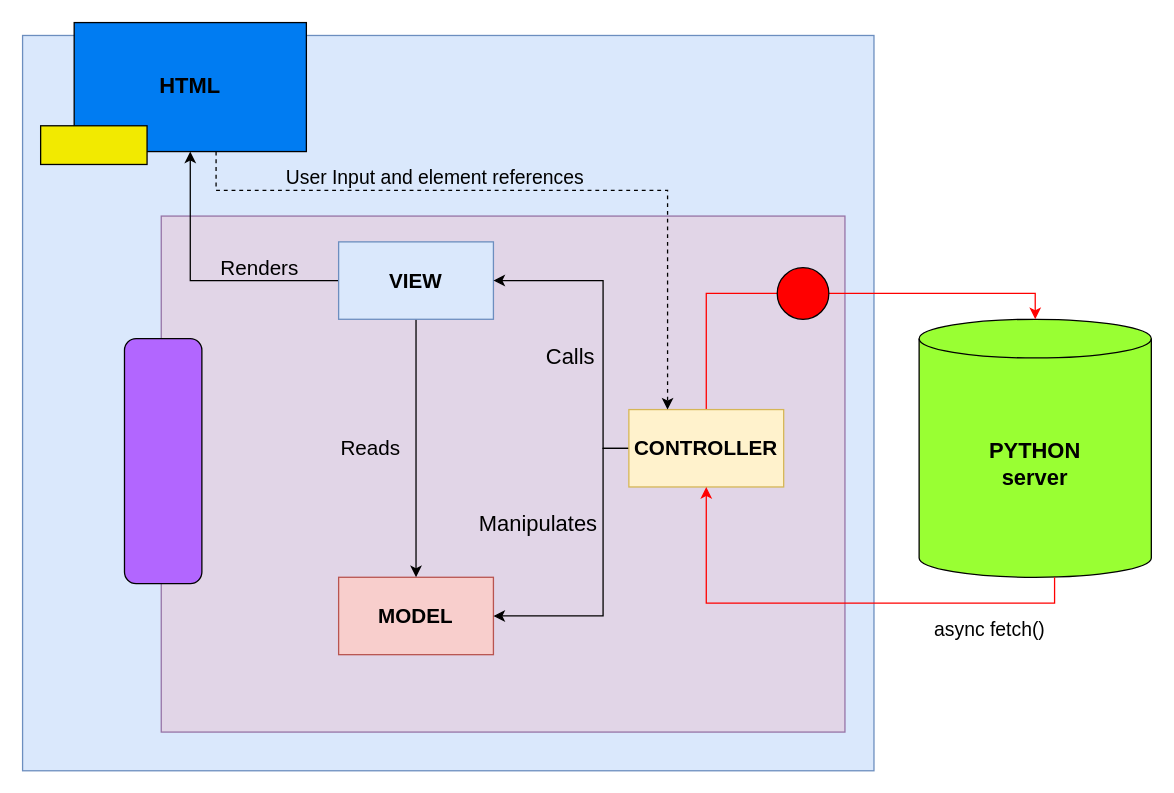
Image size: 1174x793. Some labels were removed from this diagram. Here are the shapes that lost their labels. From the top down, the centre of each, then its label:
the point at 93,144: CSS
the point at 802,292: REC
the point at 162,460: JAVASCRIPT
